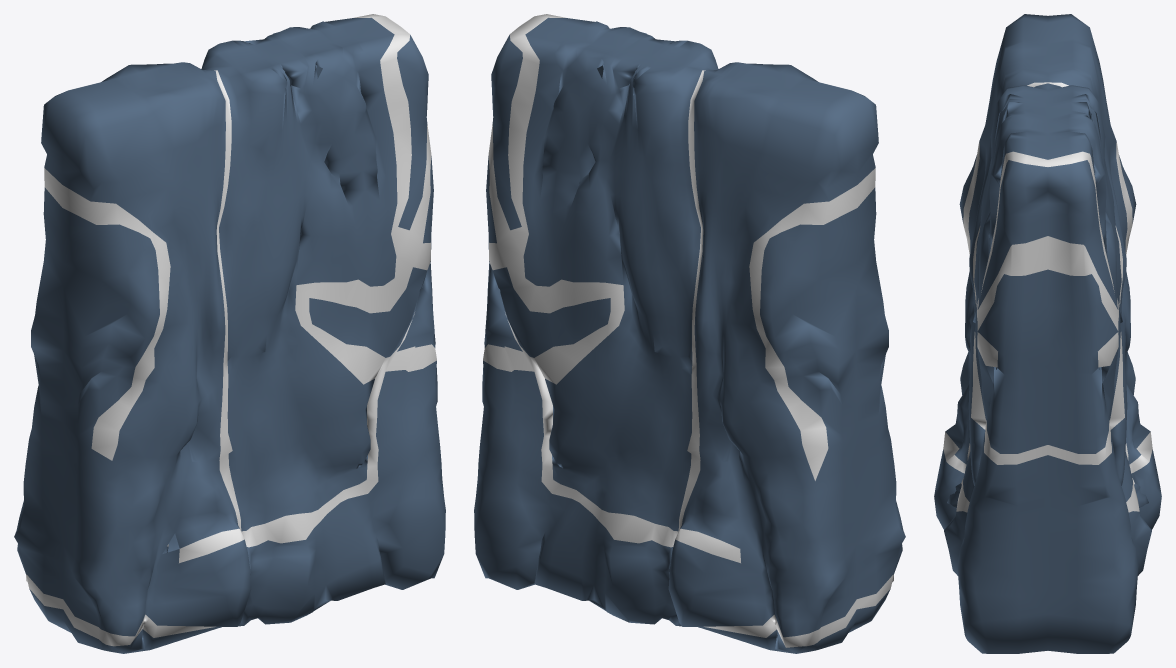
File: Wall.Basic.DoubleSided.004.gem.dae
3 renders of one model, left to right at view 1: azimuth 30°, elevation 25°; view 2: azimuth 150°, elevation 25°; view 3: azimuth 270°, elevation 25°, orthographic. The views are drawn at different scales.
Parts seen in each view (by area): view 1: Plane.004; view 2: Plane.004; view 3: Plane.004.
Boxes of the visible parts, left/top/right/bottom form: Plane.004: left=14, top=14, right=445, bottom=653; Plane.004: left=474, top=14, right=905, bottom=653; Plane.004: left=934, top=14, right=1161, bottom=653.
Size of the model in its own units: 13.1 by 7.75 by 18.66.
